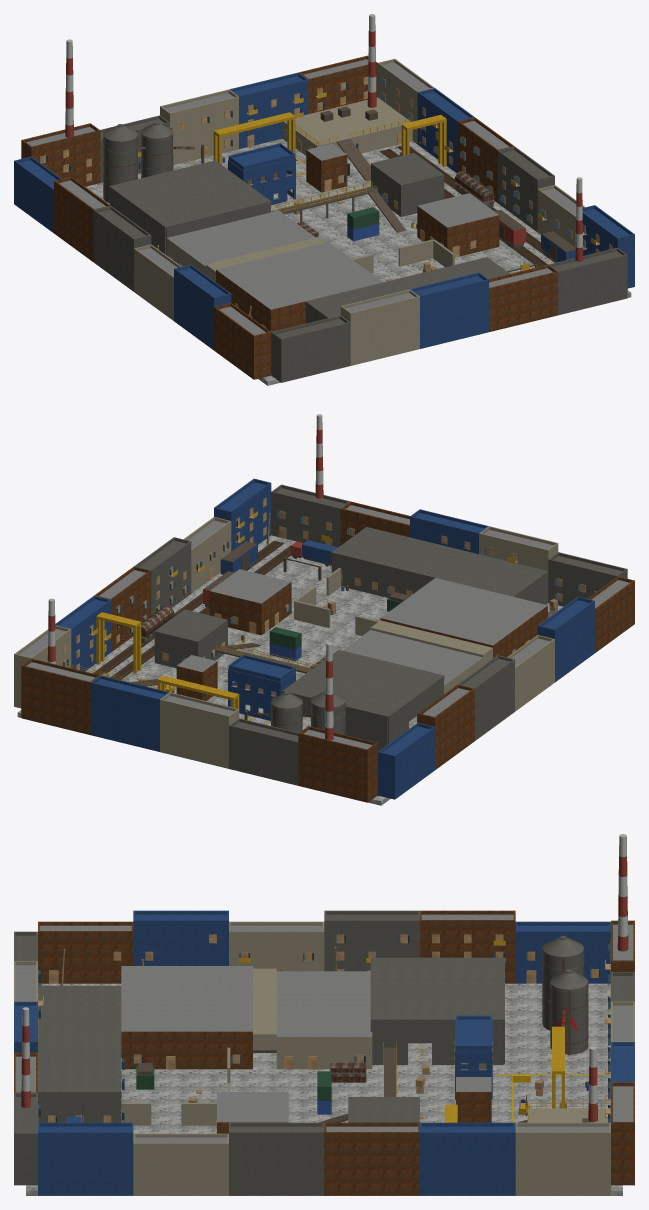
Rendered from factory.glb.
The picture shows the model from 3 angles, top to bottom: view 1: azimuth 30°, elevation 25°; view 2: azimuth 150°, elevation 25°; view 3: azimuth 270°, elevation 25°; orthographic projection. The views are drawn at different scales.
Parts seen in each view (by area): view 1: Ground1, WarehouseRoof1, SouthBlock1_Roof, Offices1_Roof, RoofBuilding1, Building6, Building2, Building4, Building10, Workshop1, Building8, Building5 (+34 smaller); view 2: Ground1, SouthBlock1_Roof, BBlock1, WarehouseRoof1, Building1, Building7, Building5, Building9, TBlock1, Building3, Offices1_Roof, Workshop1 (+33 smaller); view 3: Ground1, SouthBlock1_Roof, WarehouseRoof1, BBlock1, Building13, Building17, Building21, Offices1_Roof, Building11, Building15, Building19, SouthBlock1 (+43 smaller).
Part boxes in pixels (x1=…): Ground1: x1=85, y1=138, x2=631, y2=385; WarehouseRoof1: x1=109, y1=160, x2=271, y2=228; SouthBlock1_Roof: x1=216, y1=242, x2=382, y2=309; Offices1_Roof: x1=167, y1=210, x2=315, y2=266; RoofBuilding1: x1=282, y1=97, x2=412, y2=155; Building6: x1=415, y1=276, x2=488, y2=348; Building2: x1=271, y1=319, x2=350, y2=382; Building4: x1=340, y1=299, x2=419, y2=365; Building10: x1=553, y1=251, x2=627, y2=315; Workshop1: x1=371, y1=153, x2=444, y2=216; Building8: x1=489, y1=274, x2=558, y2=331; Building5: x1=160, y1=99, x2=238, y2=165; Ground1: x1=17, y1=535, x2=563, y2=805; SouthBlock1_Roof: x1=381, y1=578, x2=547, y2=645; BBlock1: x1=331, y1=527, x2=469, y2=597; WarehouseRoof1: x1=282, y1=650, x2=444, y2=718; Building1: x1=298, y1=736, x2=377, y2=802; Building7: x1=90, y1=679, x2=164, y2=751; Building5: x1=160, y1=702, x2=238, y2=768; Building9: x1=21, y1=668, x2=90, y2=734; TBlock1: x1=435, y1=552, x2=548, y2=604; Building3: x1=229, y1=722, x2=298, y2=785; Offices1_Roof: x1=342, y1=630, x2=482, y2=685; Workshop1: x1=154, y1=609, x2=227, y2=668; Ground1: x1=26, y1=983, x2=622, y2=1195; SouthBlock1_Roof: x1=121, y1=966, x2=252, y2=1031; WarehouseRoof1: x1=370, y1=957, x2=504, y2=1021; BBlock1: x1=38, y1=1031, x2=121, y2=1122; Building13: x1=420, y1=1126, x2=515, y2=1195; Building17: x1=229, y1=1126, x2=324, y2=1195; Building21: x1=38, y1=1126, x2=133, y2=1195; Offices1_Roof: x1=276, y1=971, x2=372, y2=1036; Building11: x1=515, y1=1136, x2=610, y2=1195; Building15: x1=324, y1=1136, x2=419, y2=1195; Building19: x1=133, y1=1147, x2=228, y2=1195; SouthBlock1: x1=121, y1=1031, x2=252, y2=1069.
Bounding box in the file's own units: 88 × 33 × 104.
22 materials, 21 textured.
